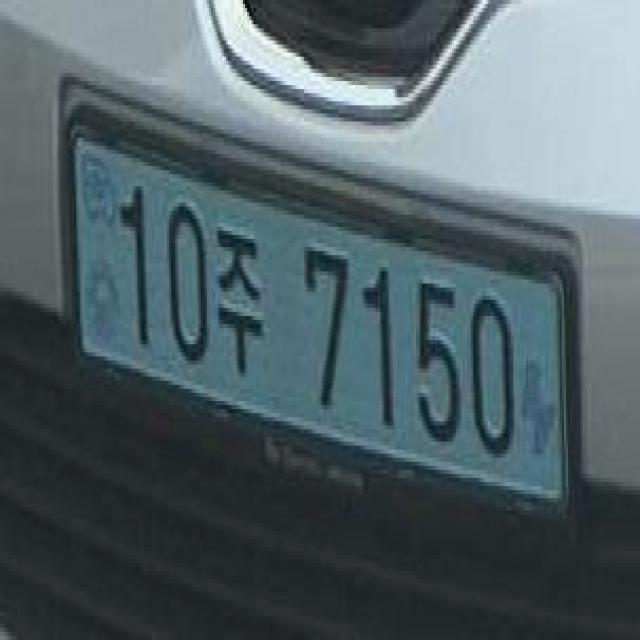EV_plate: (58, 120, 585, 545)
